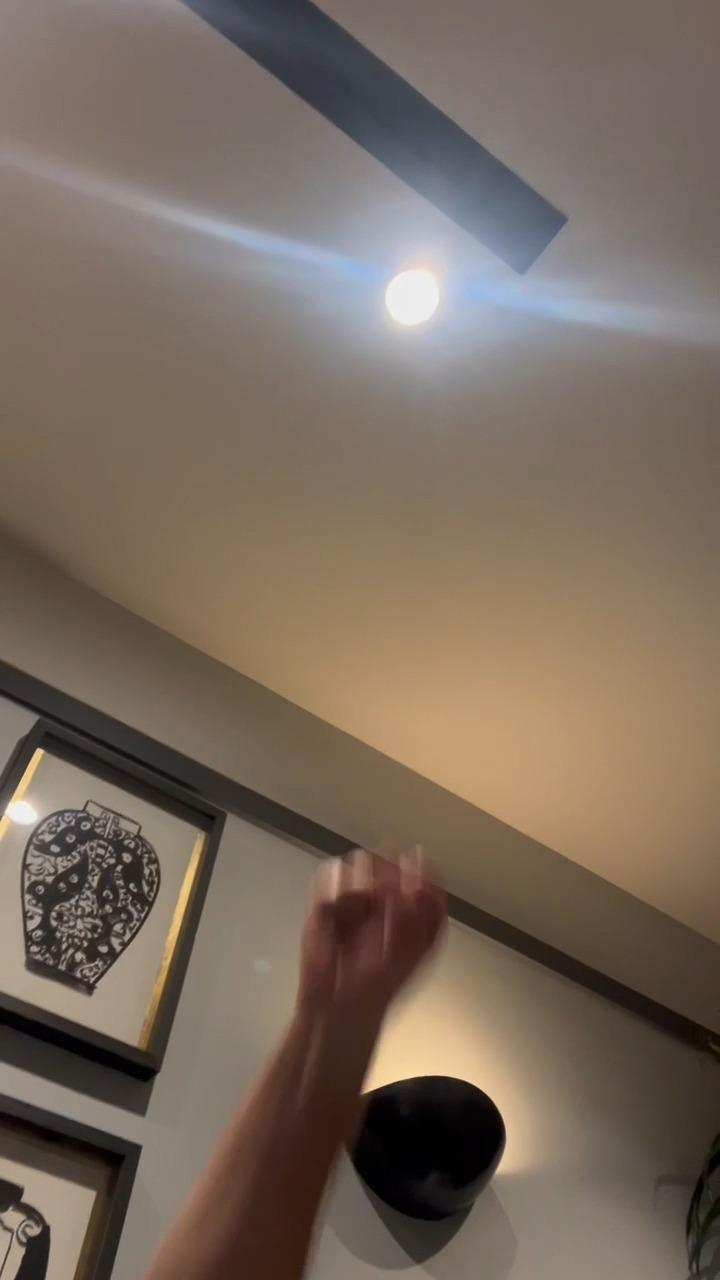Rock: (296, 842, 456, 1017)
